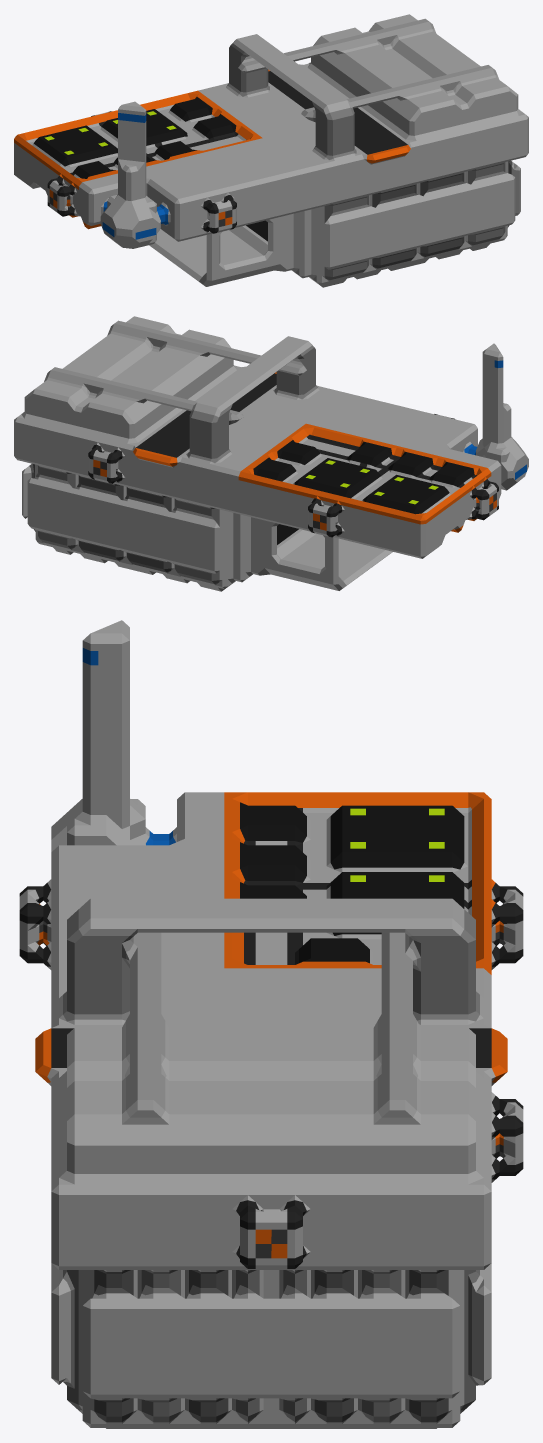
File: docking_medium.fbx
3 renders of one model, top to bottom at view 1: azimuth 30°, elevation 25°; view 2: azimuth 150°, elevation 25°; view 3: azimuth 270°, elevation 25°, orthographic. The views are drawn at different scales.
Parts seen in each view (by area): view 1: docking_medium; view 2: docking_medium; view 3: docking_medium.
Boxes of the visible parts, box(x1,y1,x2,y2) form: docking_medium: box(14, 14, 528, 287); docking_medium: box(14, 316, 528, 591); docking_medium: box(19, 620, 523, 1428).
Bounding box in the file's own units: 6400 × 3200 × 3200.
